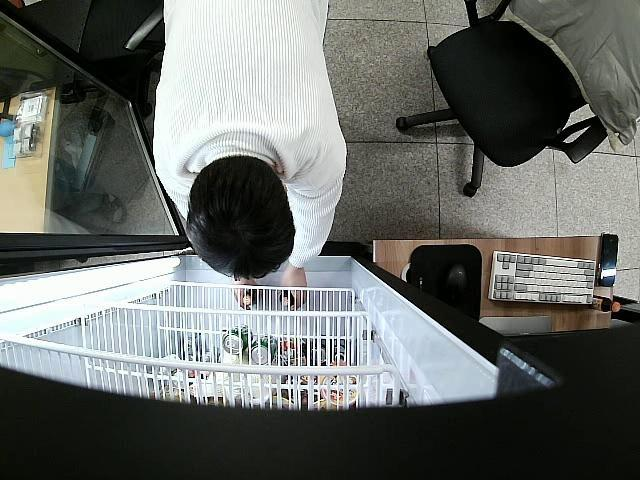17_vita500: (240, 291, 258, 310), (280, 290, 295, 306)
